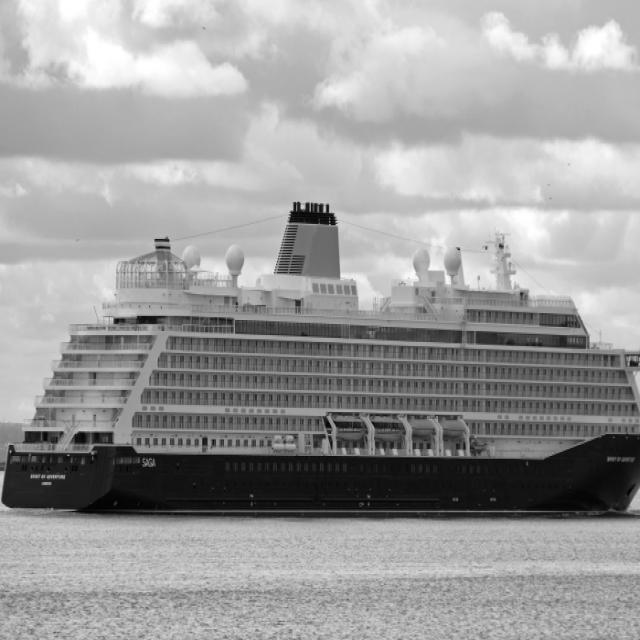cruises: (1, 199, 640, 524)
